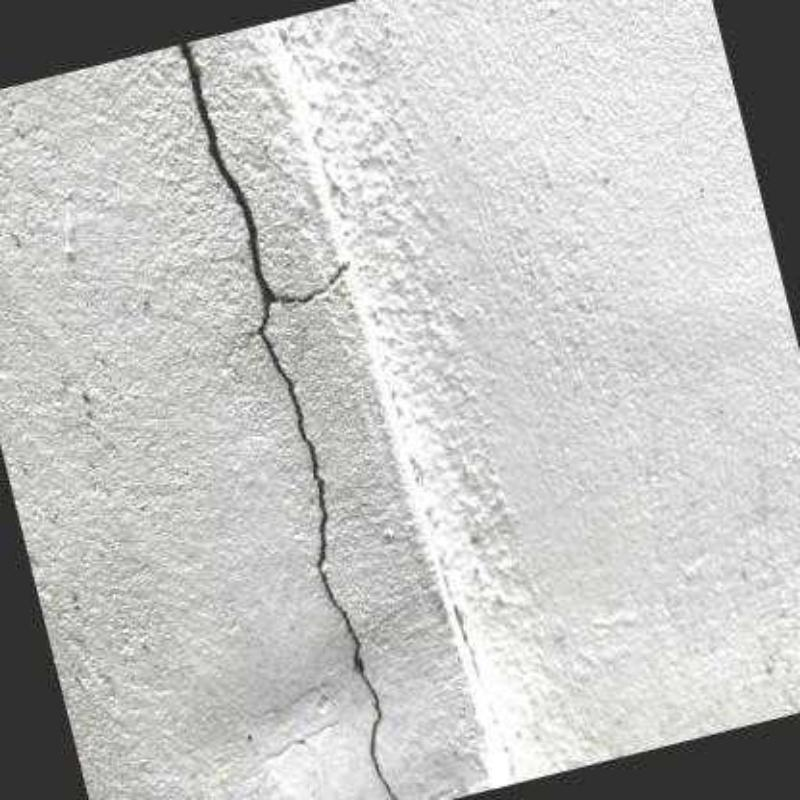pothole: (176, 41, 400, 800)
